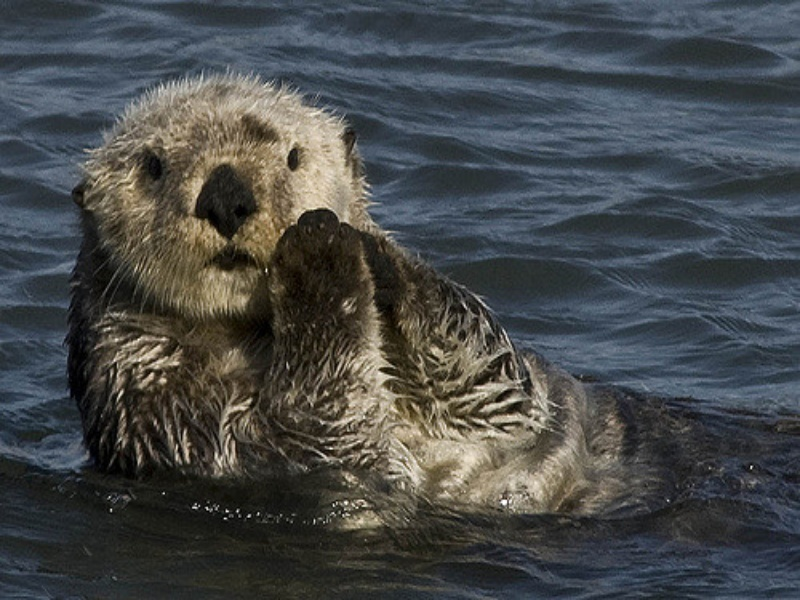minkish: (56, 62, 658, 540)
